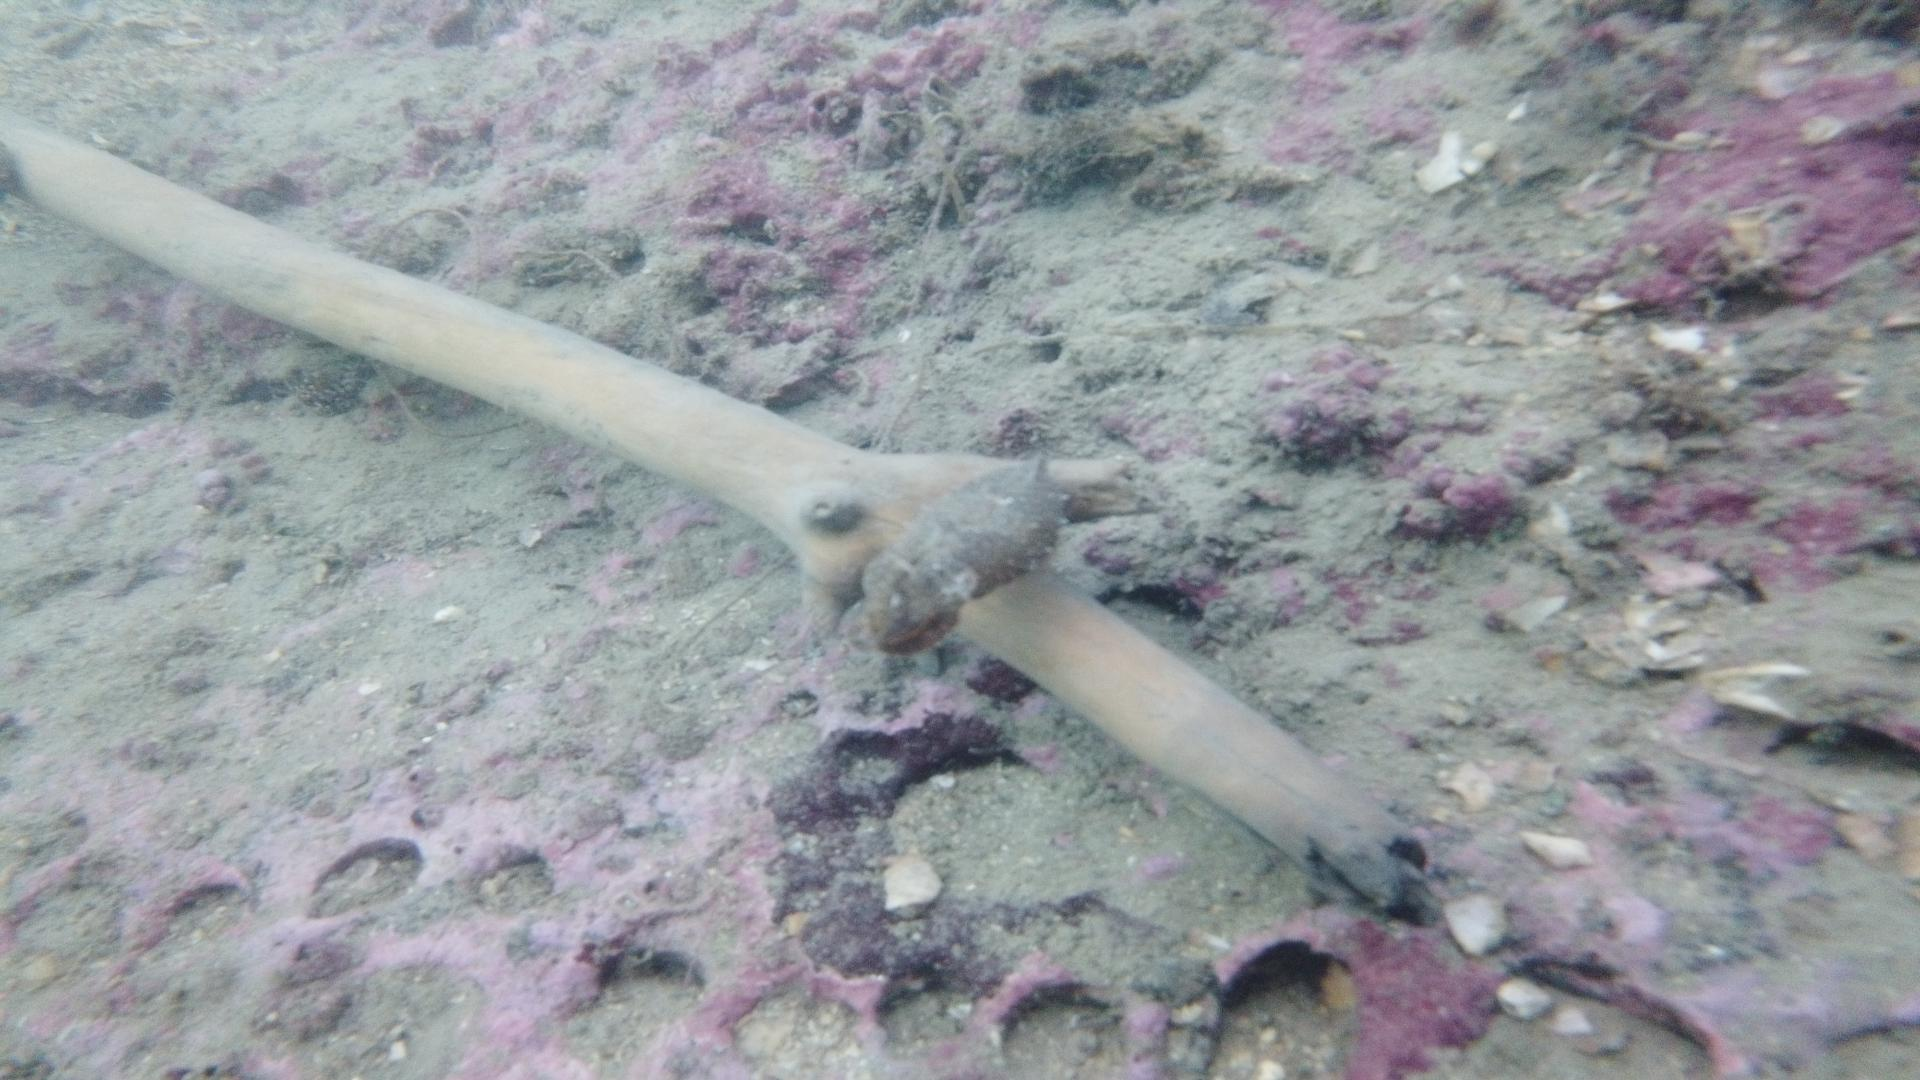wood: (0, 112, 1433, 927)
